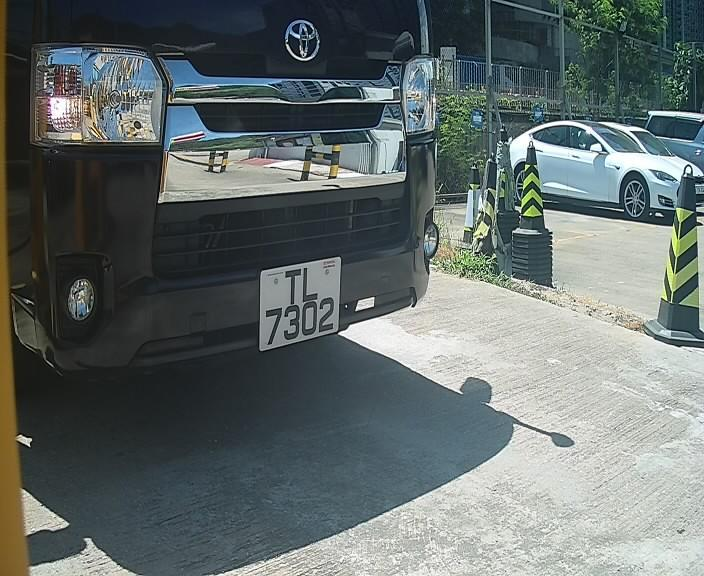privatecar: (13, 8, 444, 422)
